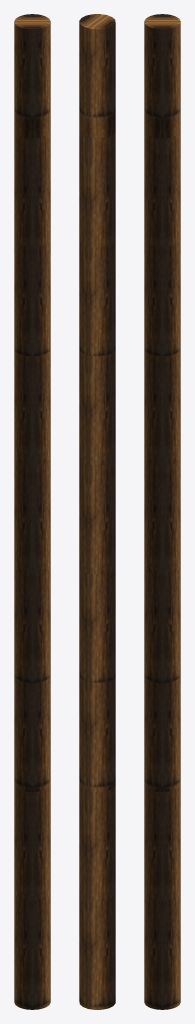
Rendered from mast.glb.
3 views of the same model, side by side, from view 1: azimuth 90°, elevation 25°; view 2: azimuth 150°, elevation 25°; view 3: azimuth 270°, elevation 25° (orthographic).
Visible parts, largest first — view 1: mast; view 2: mast; view 3: mast.
Boxes of the visible parts, x1,y1,x2,y2 form: mast: (14, 14, 50, 1009); mast: (79, 14, 115, 1009); mast: (144, 14, 180, 1009).
Size of the model in its own units: 0.7292 by 21.59 by 0.7292.
Materials: 1 (1 with a texture image).
